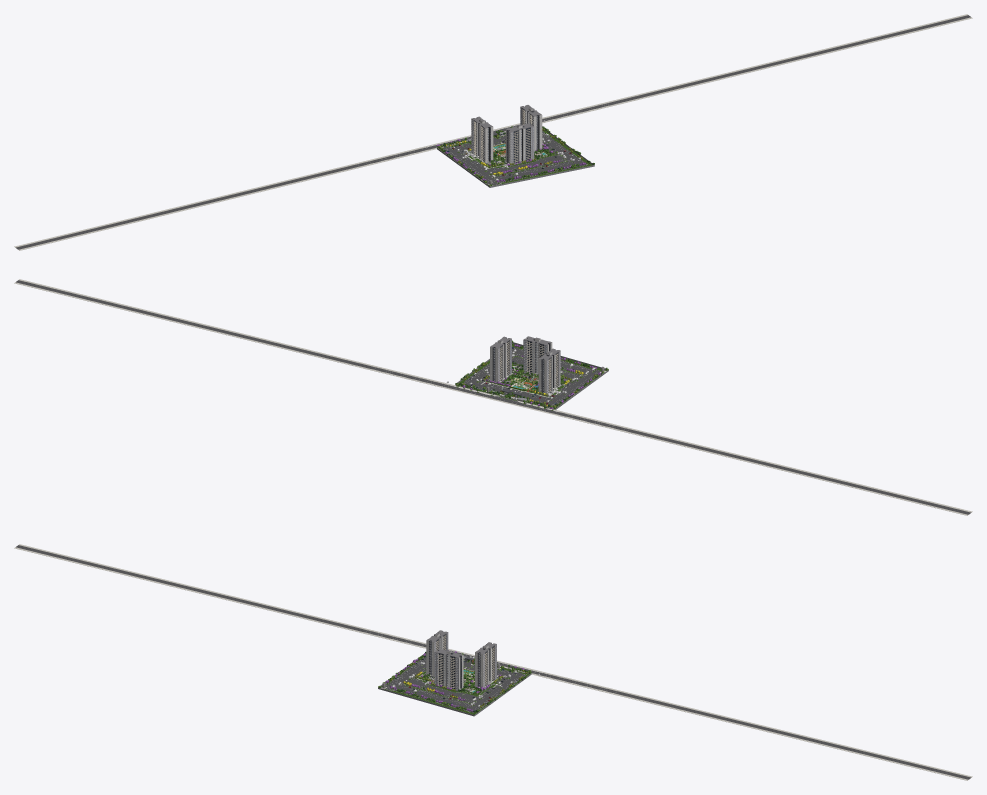
Rendered from park.glb.
3 renders of one model, top to bottom at view 1: azimuth 30°, elevation 25°; view 2: azimuth 150°, elevation 25°; view 3: azimuth 330°, elevation 25°, orthographic.
Parts seen in each view (by area): view 1: entorno-rua, terreno, vegetacao, torre-3, torre-2, torre-1; view 2: entorno-rua, terreno, vegetacao, torre-2, torre-1, torre-3, lazer; view 3: entorno-rua, terreno, vegetacao, torre-3, torre-1, torre-2.
Part boxes in pixels (x1,y1,x2,y2): entorno-rua: (14, 14, 972, 250); terreno: (424, 121, 594, 187); vegetacao: (436, 120, 594, 186); torre-3: (505, 123, 534, 163); torre-2: (471, 116, 493, 162); torre-1: (520, 105, 542, 150); entorno-rua: (14, 279, 972, 515); terreno: (442, 342, 608, 415); vegetacao: (447, 340, 608, 410); torre-2: (538, 348, 560, 393); torre-1: (490, 336, 511, 382); torre-3: (523, 336, 552, 375); lazer: (487, 365, 604, 401); entorno-rua: (14, 544, 972, 780); terreno: (378, 647, 544, 716); vegetacao: (378, 651, 539, 714); torre-3: (434, 648, 463, 690); torre-1: (475, 642, 496, 687); torre-2: (426, 630, 448, 676).
Size of what is drawn, in the model's own units: 1659 by 61.93 by 191.
136 materials, 71 textured.
